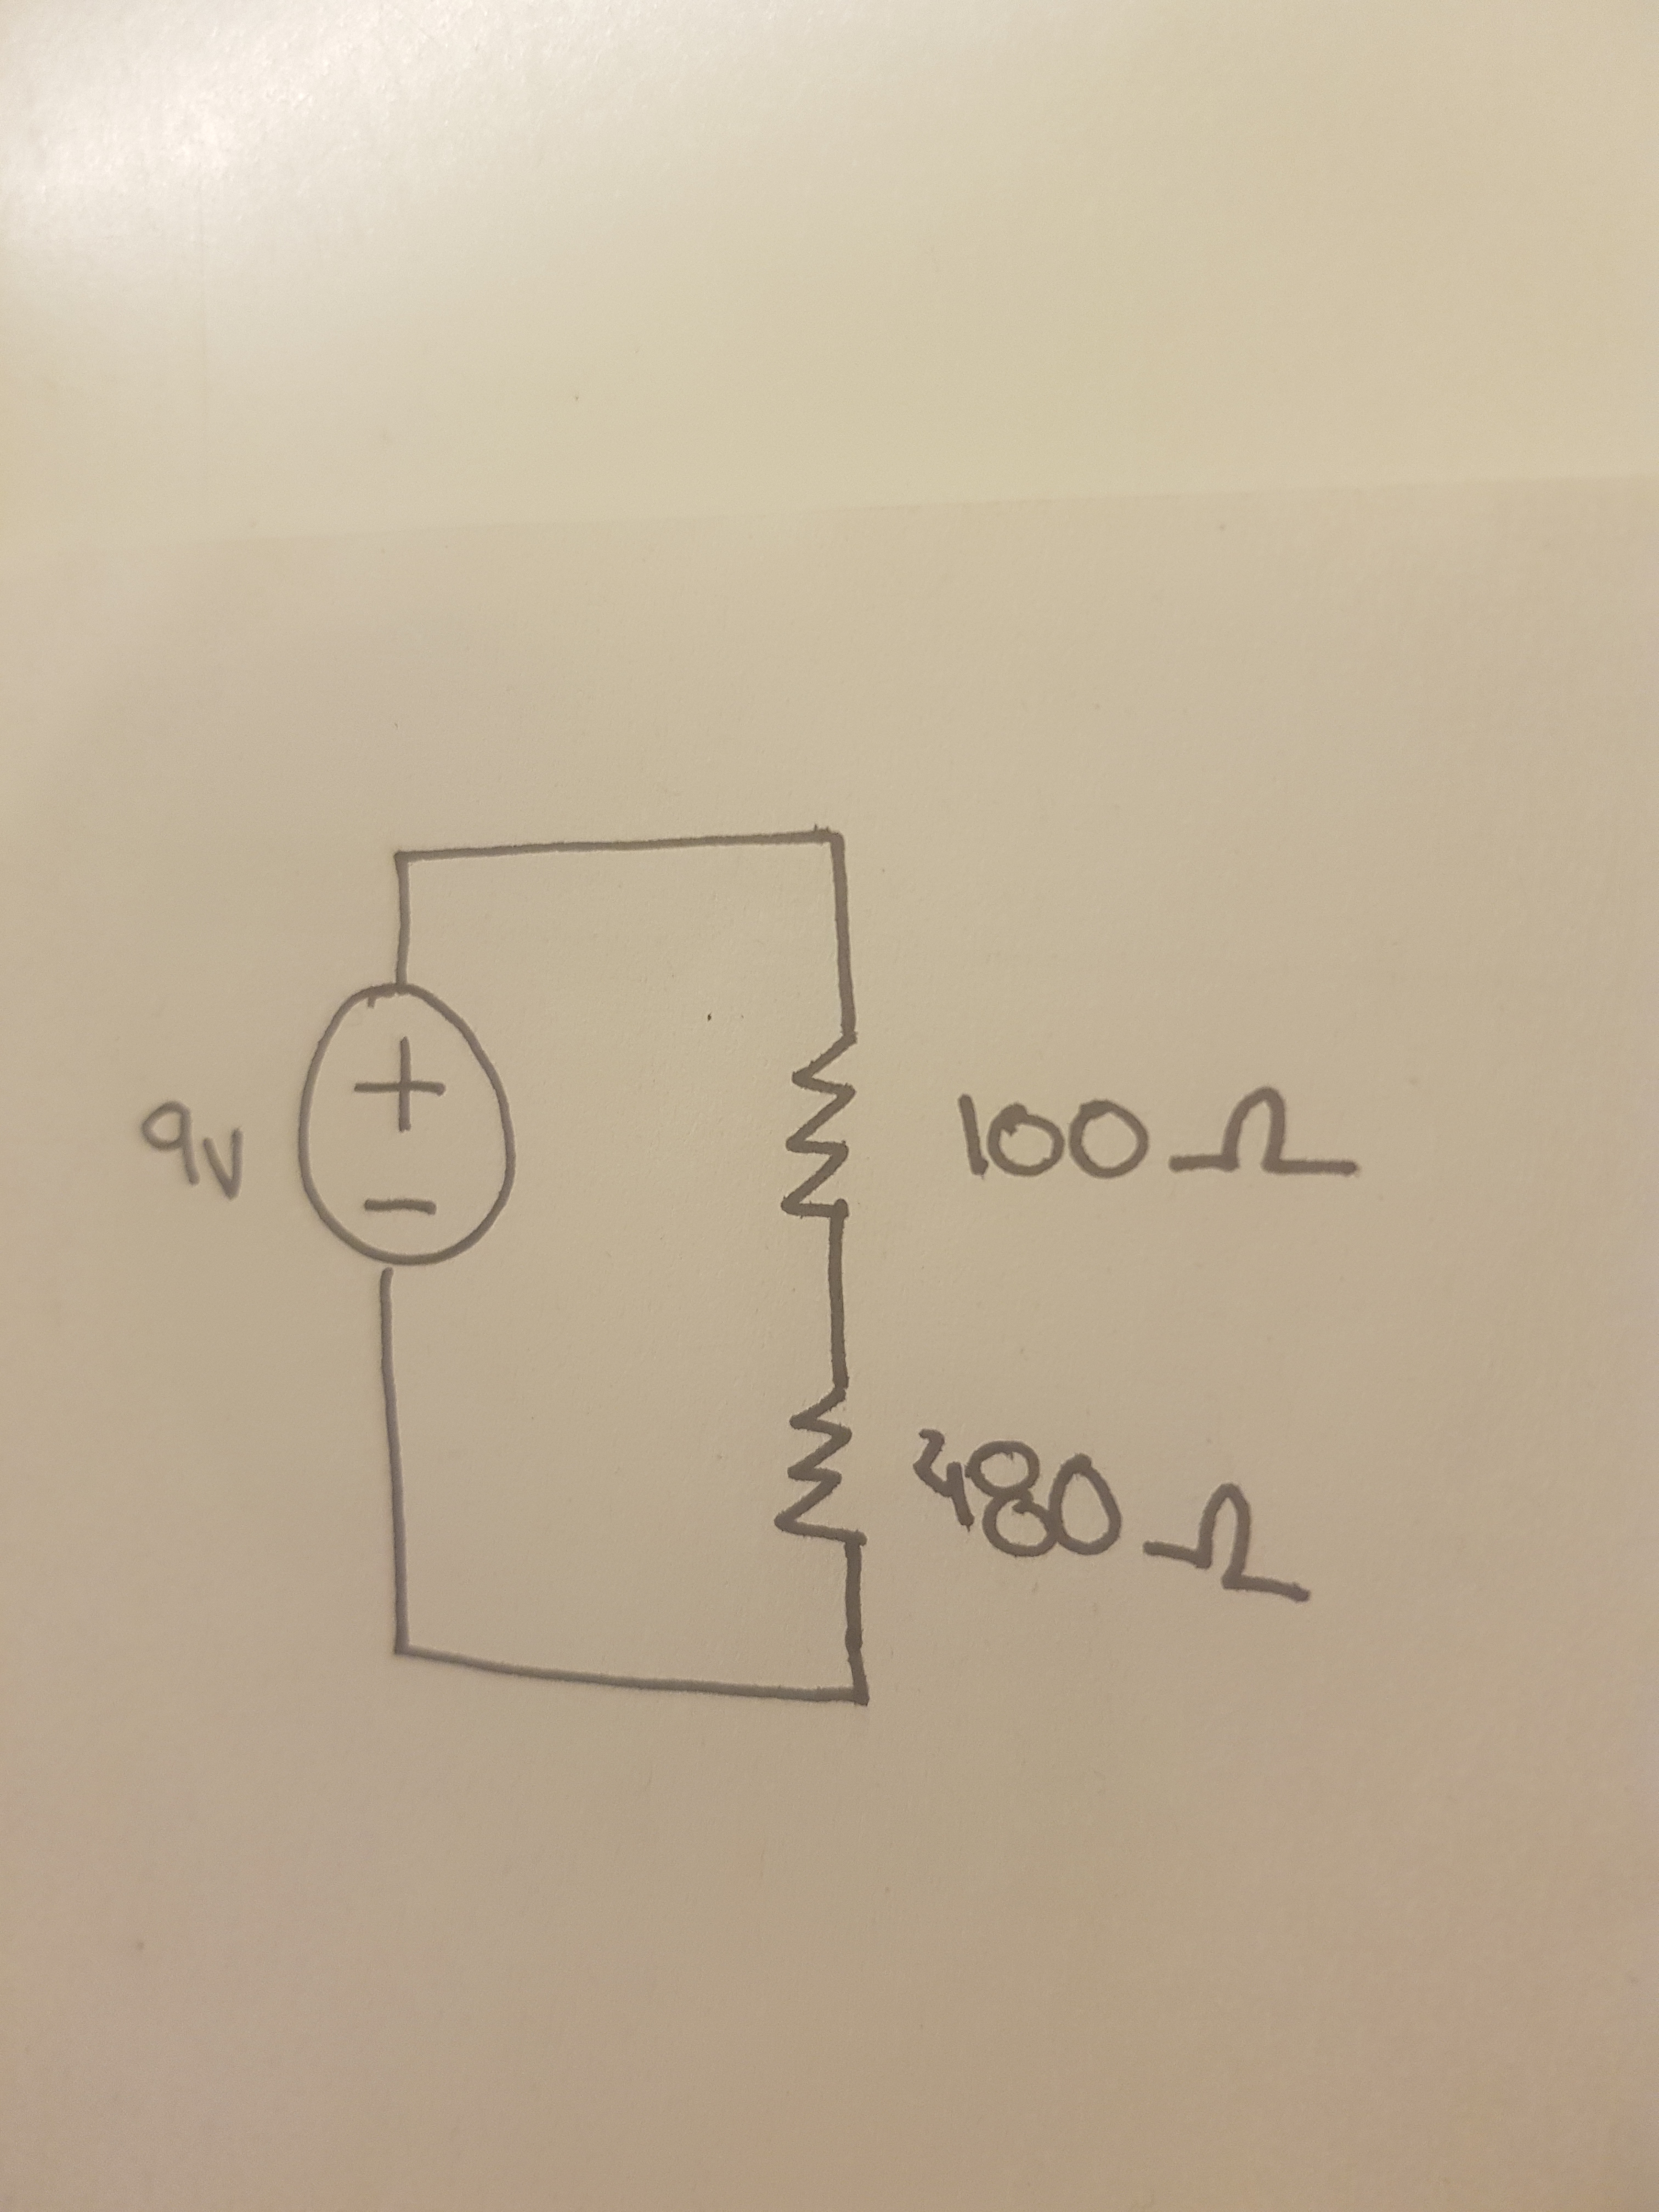junction: (376, 1623, 423, 1672), (810, 819, 856, 862), (838, 1676, 880, 1721), (380, 838, 418, 874)
resistor: (774, 1021, 873, 1252), (772, 1385, 884, 1575)
text: (904, 1416, 1319, 1618), (948, 1073, 1368, 1190), (131, 1092, 249, 1209)
voltage.dc: (288, 970, 532, 1282)
